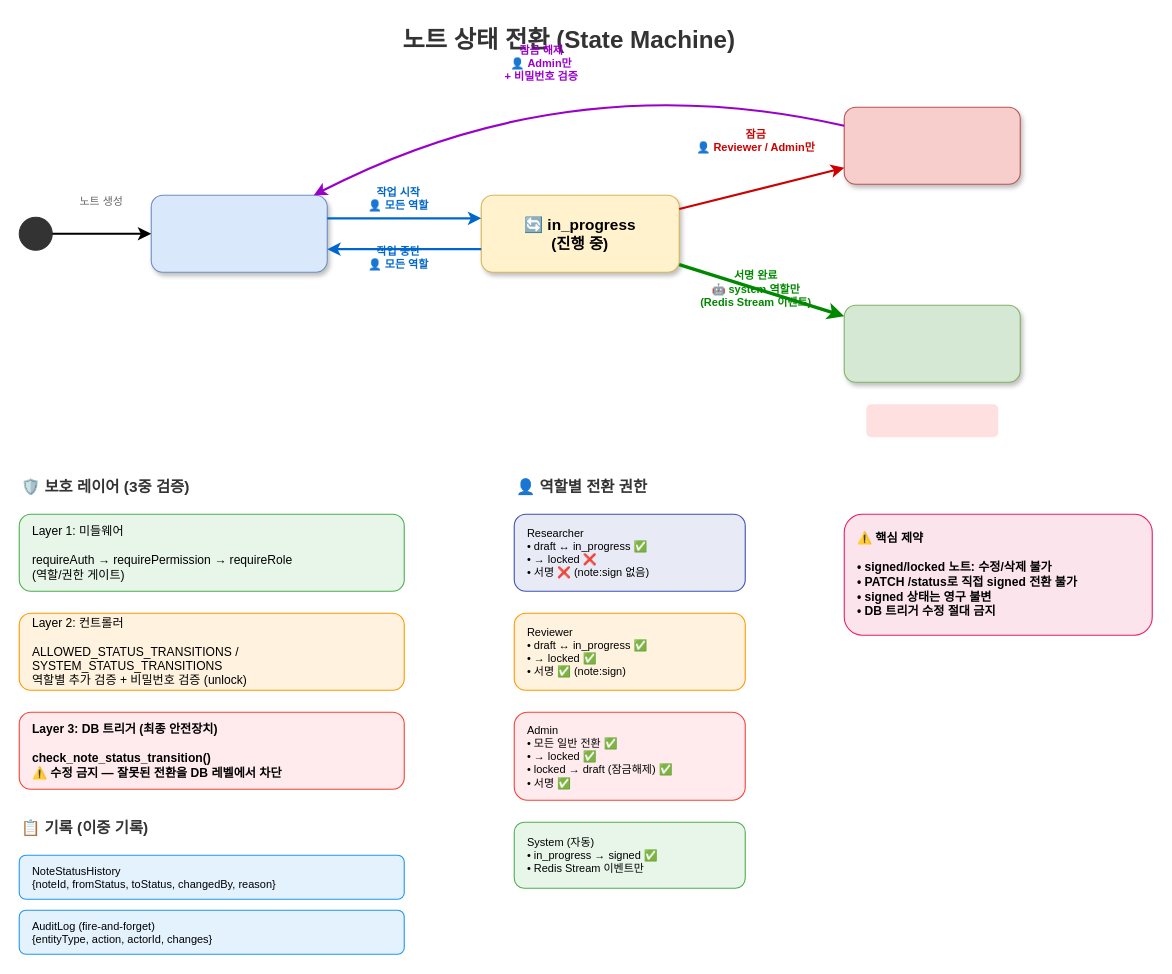
The diagram is 1172 pixels wide and 974 high, and some of its shapes have lost their labels. Each missing label, with the centre of its shape:
✅ signed (서명 완료): pixel 933 345
📝 draft (초안): pixel 240 235
🔒 locked (잠김): pixel 933 147
🚫 변경 불가: pixel 932 420
